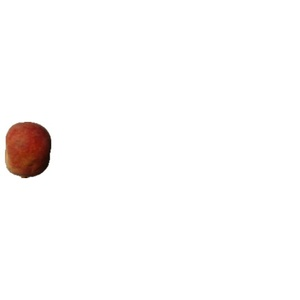pêssego: (1, 122, 52, 179)
